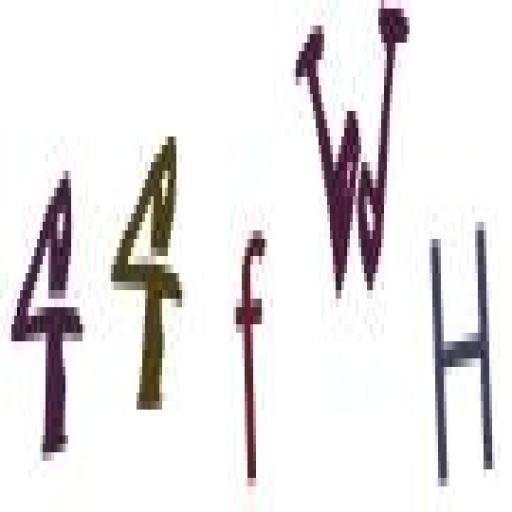4: (4, 151, 85, 482), (106, 116, 187, 433)
H: (423, 209, 500, 491)
W: (288, 4, 417, 312)
f: (228, 207, 276, 495)
